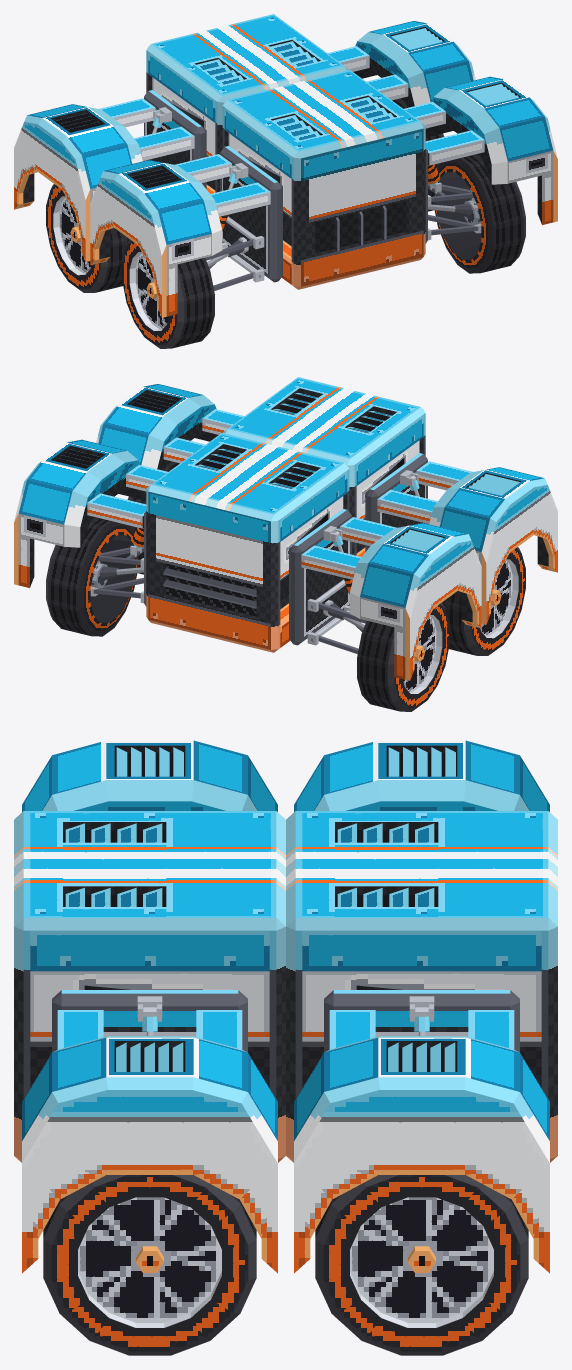
File: aero_b_rig.glb
3 renders of one model, top to bottom at view 1: azimuth 30°, elevation 25°; view 2: azimuth 150°, elevation 25°; view 3: azimuth 270°, elevation 25°, orthographic. The views are drawn at different scales.
Parts seen in each view (by area): view 1: aero_b_block_0_aero_b_block_body, aero_b_wheel_2_aero_b_wheel_pod, aero_b_wheel_3_aero_b_wheel_pod, aero_b_block_1_aero_b_block_body, aero_b_wheel_4_aero_b_wheel_pod, aero_b_wheel_5_aero_b_wheel_pod, aero_b_wheel_4_aero_b_wheel_tyre, aero_b_wheel_2_aero_b_wheel_tyre, aero_b_wheel_3_aero_b_wheel_tyre, aero_b_wheel_4_aero_b_wheel_arm_lo, aero_b_wheel_4_aero_b_wheel_arm_up, aero_b_wheel_2_aero_b_wheel_arm_up (+1 smaller); view 2: aero_b_block_1_aero_b_block_body, aero_b_wheel_3_aero_b_wheel_pod, aero_b_wheel_2_aero_b_wheel_pod, aero_b_block_0_aero_b_block_body, aero_b_wheel_5_aero_b_wheel_pod, aero_b_wheel_4_aero_b_wheel_pod, aero_b_wheel_5_aero_b_wheel_tyre, aero_b_wheel_3_aero_b_wheel_tyre, aero_b_wheel_2_aero_b_wheel_tyre, aero_b_wheel_5_aero_b_wheel_arm_lo, aero_b_wheel_5_aero_b_wheel_arm_up, aero_b_wheel_3_aero_b_wheel_arm_up (+1 smaller); view 3: aero_b_block_0_aero_b_block_body, aero_b_block_1_aero_b_block_body, aero_b_wheel_4_aero_b_wheel_pod, aero_b_wheel_5_aero_b_wheel_pod, aero_b_wheel_4_aero_b_wheel_tyre, aero_b_wheel_5_aero_b_wheel_tyre, aero_b_wheel_2_aero_b_wheel_pod, aero_b_wheel_3_aero_b_wheel_pod.
Part boxes in pixels (left/top/right/bottom): aero_b_block_0_aero_b_block_body: left=222, top=70, right=425, bottom=289; aero_b_wheel_2_aero_b_wheel_pod: left=90, top=146, right=282, bottom=317; aero_b_wheel_3_aero_b_wheel_pod: left=14, top=90, right=206, bottom=261; aero_b_block_1_aero_b_block_body: left=146, top=14, right=348, bottom=193; aero_b_wheel_4_aero_b_wheel_pod: left=404, top=76, right=557, bottom=243; aero_b_wheel_5_aero_b_wheel_pod: left=327, top=21, right=475, bottom=107; aero_b_wheel_4_aero_b_wheel_tyre: left=433, top=154, right=525, bottom=273; aero_b_wheel_2_aero_b_wheel_tyre: left=122, top=239, right=214, bottom=348; aero_b_wheel_3_aero_b_wheel_tyre: left=46, top=184, right=129, bottom=292; aero_b_wheel_4_aero_b_wheel_arm_lo: left=428, top=214, right=481, bottom=235; aero_b_wheel_4_aero_b_wheel_arm_up: left=428, top=182, right=474, bottom=201; aero_b_wheel_2_aero_b_wheel_arm_up: left=205, top=216, right=255, bottom=260; aero_b_block_1_aero_b_block_body: left=146, top=433, right=349, bottom=652; aero_b_wheel_3_aero_b_wheel_pod: left=289, top=509, right=481, bottom=680; aero_b_wheel_2_aero_b_wheel_pod: left=365, top=453, right=557, bottom=624; aero_b_block_0_aero_b_block_body: left=223, top=377, right=425, bottom=556; aero_b_wheel_5_aero_b_wheel_pod: left=14, top=439, right=167, bottom=606; aero_b_wheel_4_aero_b_wheel_pod: left=96, top=384, right=244, bottom=470; aero_b_wheel_5_aero_b_wheel_tyre: left=46, top=517, right=138, bottom=636; aero_b_wheel_3_aero_b_wheel_tyre: left=357, top=602, right=449, bottom=711; aero_b_wheel_2_aero_b_wheel_tyre: left=442, top=547, right=525, bottom=655; aero_b_wheel_5_aero_b_wheel_arm_lo: left=90, top=577, right=143, bottom=598; aero_b_wheel_5_aero_b_wheel_arm_up: left=97, top=545, right=143, bottom=564; aero_b_wheel_3_aero_b_wheel_arm_up: left=316, top=579, right=366, bottom=623; aero_b_block_0_aero_b_block_body: left=14, top=811, right=285, bottom=1162; aero_b_block_1_aero_b_block_body: left=286, top=811, right=557, bottom=1162; aero_b_wheel_4_aero_b_wheel_pod: left=22, top=990, right=277, bottom=1273; aero_b_wheel_5_aero_b_wheel_pod: left=294, top=990, right=549, bottom=1273; aero_b_wheel_4_aero_b_wheel_tyre: left=43, top=1175, right=256, bottom=1355; aero_b_wheel_5_aero_b_wheel_tyre: left=315, top=1175, right=528, bottom=1355; aero_b_wheel_2_aero_b_wheel_pod: left=22, top=740, right=277, bottom=811; aero_b_wheel_3_aero_b_wheel_pod: left=294, top=740, right=549, bottom=811.
Size of the model in its own units: 3 by 1.39 by 2.
1 material, 1 textured.
